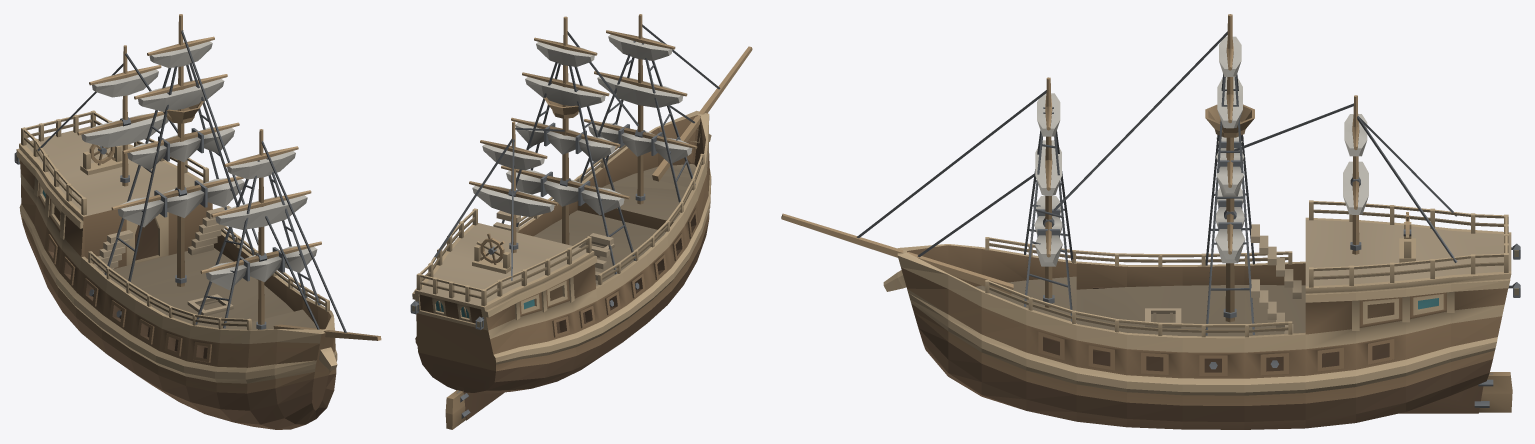
Rendered from galleon.glb.
The picture shows the model from 3 angles, left to right: view 1: azimuth 30°, elevation 25°; view 2: azimuth 150°, elevation 25°; view 3: azimuth 270°, elevation 25°; orthographic projection. The views are drawn at different scales.
Parts seen in each view (by area): view 1: galleon; view 2: galleon; view 3: galleon.
Boxes of the visible parts, left/top/right/bottom form: galleon: left=14, top=14, right=381, bottom=429; galleon: left=410, top=14, right=752, bottom=429; galleon: left=781, top=14, right=1520, bottom=429.
Size of the model in its own units: 7 by 15.8 by 26.48.
